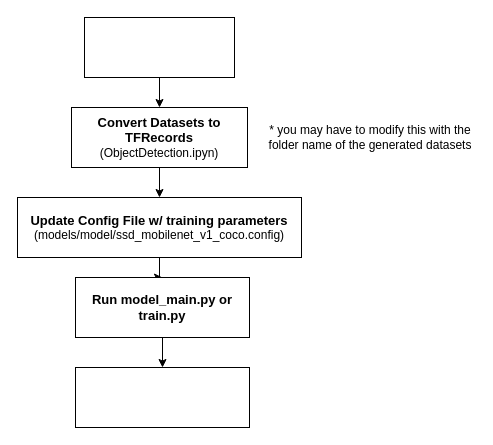
Image size: 493x445. Some labels were removed from this diagram. The centre of each missing label's shape, as x and y in pixels:
"Evaluate training with tensorboard" belongs at point 162,397.
"Generate Dataset(s) (LPImageGenerator.py) Training (60%-80%) Testing (40%-20%)" belongs at point 159,47.
